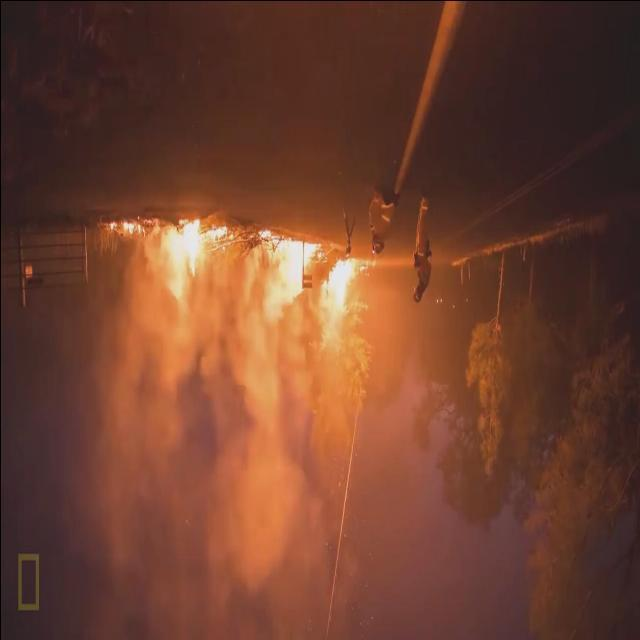Fire: (255, 228, 321, 324), (163, 215, 228, 307), (326, 257, 364, 325), (108, 220, 140, 242)
